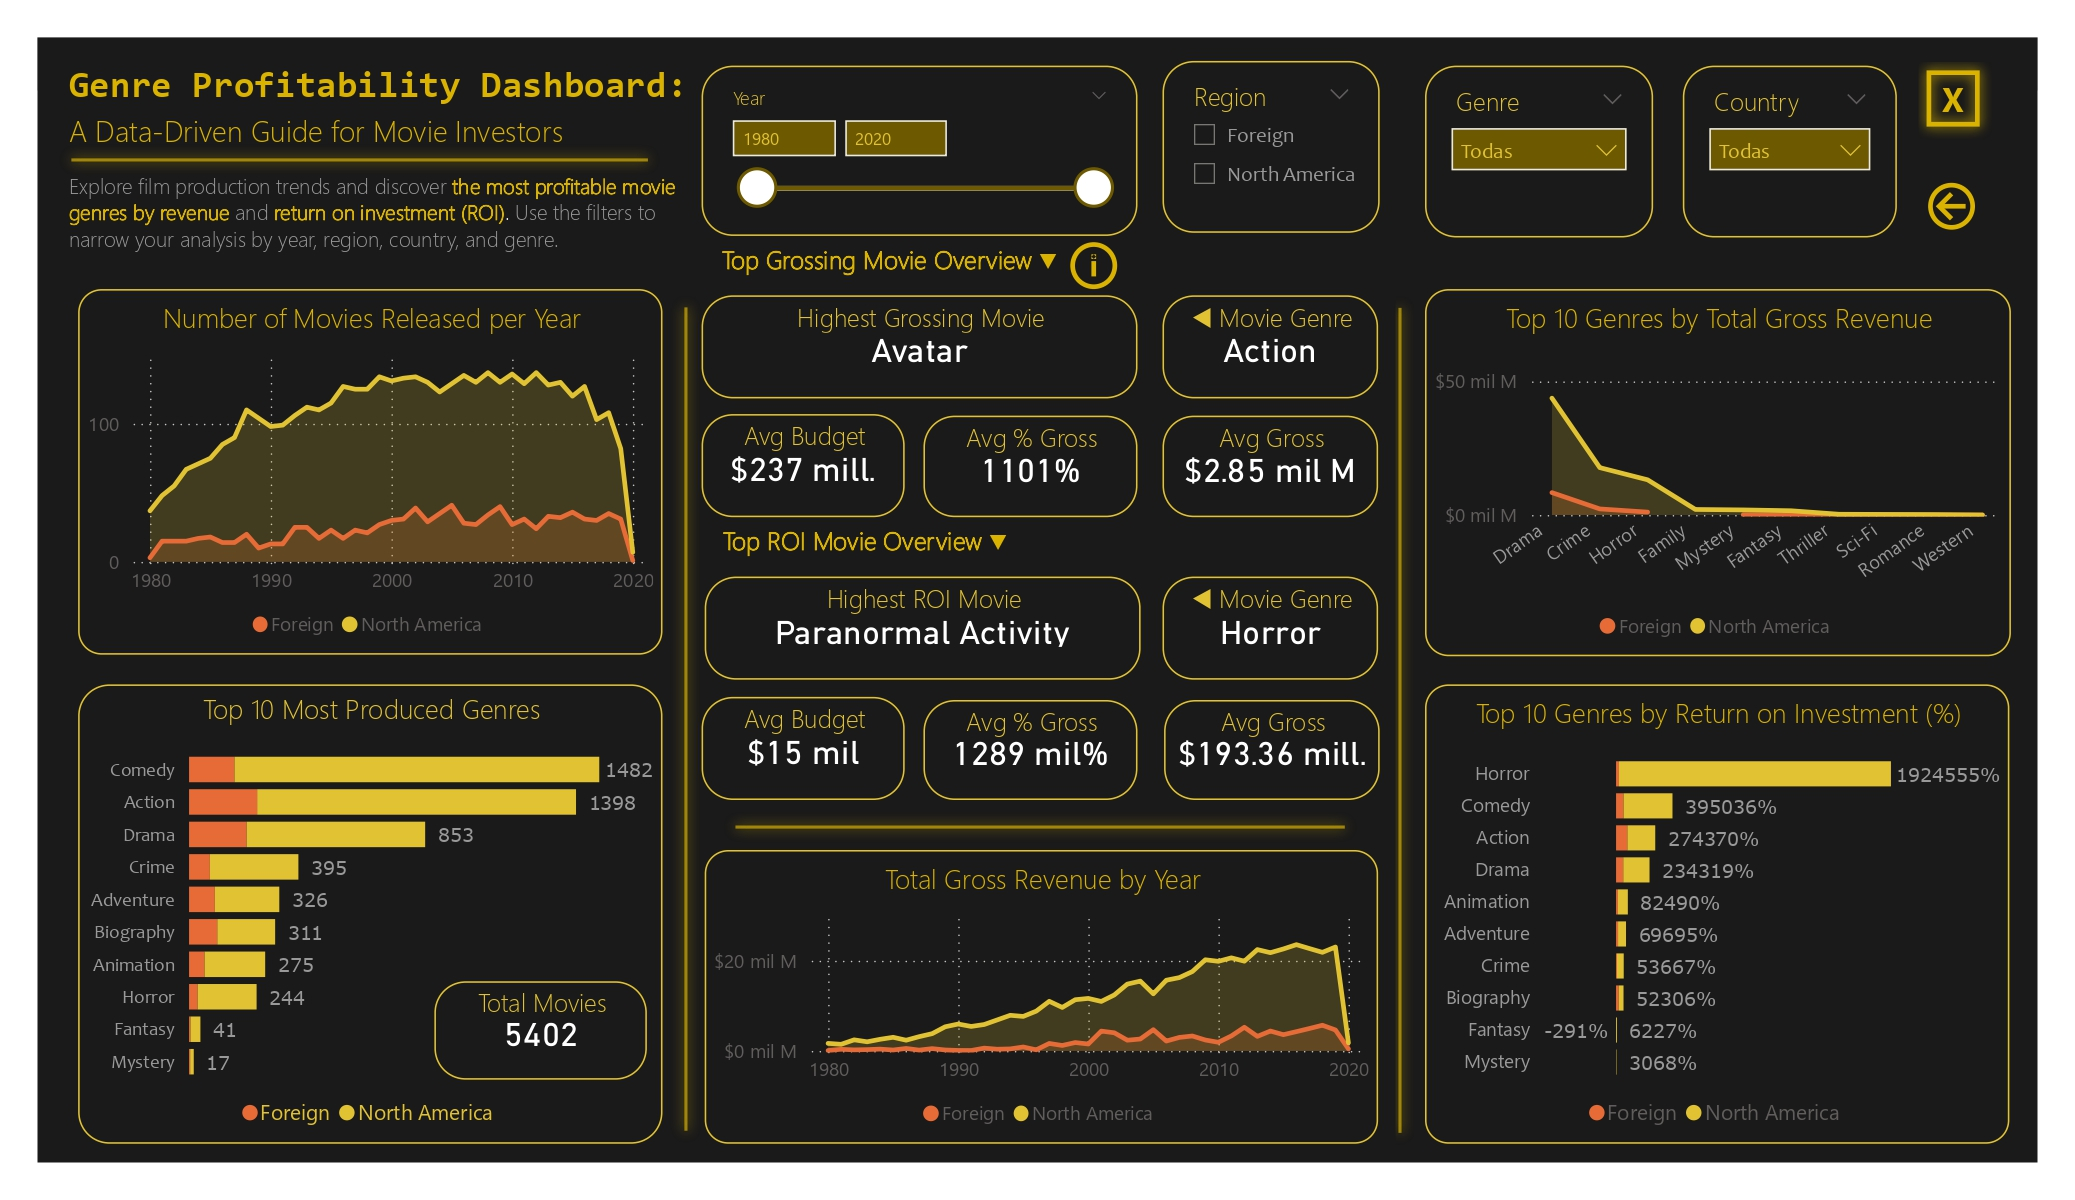

Layout of this report page (visuals, bound fields, positions):
{"tool":"powerbi","page":{"name":"Duplicado de Página 1","canvas":[1280,720],"ordinal":0},"visuals":[{"type":"slicer","fields":{"Values":["Sheet1.region"]},"box":[720,15,138.8,110],"z":0},{"type":"slicer","fields":{"Values":["Sheet1.genre"]},"box":[887.5,17.5,146.2,110],"z":1000},{"type":"slicer","fields":{"Values":["Sheet1.country"]},"box":[1052.5,17.5,137.5,110],"z":2000},{"type":"areaChart","title":"Top 10 Genres by Total Gross Revenue","fields":{"Series":["Sheet1.region"],"Category":["Sheet1.genre"],"Y":["Sheet1.gross"]},"box":[887.5,161.2,375,235],"z":3000},{"type":"barChart","title":"Top 10 Most Produced Genres","fields":{"Category":["Sheet1.genre","Sheet1.year"],"Series":["Sheet1.region"],"Y":["Sheet1.name"]},"box":[26.2,414.3,373.8,294],"z":4000},{"type":"slicer","fields":{"Values":["Sheet1.year"]},"box":[425,17.9,278.6,109.5],"z":5000},{"type":"card","title":"Highest Grossing Movie","fields":{"Values":["Sheet1.name"]},"box":[425,165.2,278.6,65.5],"z":6000},{"type":"card","title":"Highest ROI Movie ","fields":{"Values":["Sheet1.name"]},"box":[427.4,345,278.6,65.5],"z":7000},{"type":"card","title":"◀ Movie Genre","fields":{"Values":["Sheet1.genre"]},"box":[720.2,345,138.1,65.5],"z":8000},{"type":"card","title":"◀ Movie Genre","fields":{"Values":["Sheet1.genre"]},"box":[720.2,165.2,138.1,65.5],"z":9000},{"type":"card","title":"Avg % Gross","fields":{"Values":["Sheet1.%gross"]},"box":[566.7,242.4,136.9,64.3],"z":10000},{"type":"areaChart","title":"Number of Movies Released per Year","fields":{"Category":["Sheet1.year"],"Series":["Sheet1.region"],"Y":["Sheet1.name"]},"box":[26.2,161.2,373.8,233.8],"z":11000},{"type":"card","title":"Total Movies","fields":{"Values":["Sheet1.name"]},"box":[253.6,603.6,136.9,63.1],"z":12000},{"type":"shape","box":[862.5,165,18.8,543.8],"z":13000},{"type":"shape","box":[400,165.5,29.8,542.9],"z":14000},{"type":"barChart","title":"Top 10 Genres by Return on Investment (%)","fields":{"Category":["Sheet1.genre","Sheet1.year"],"Series":["Sheet1.region"],"Y":["Sheet1.%gross"]},"box":[888.1,414.3,373.8,294],"z":15000},{"type":"card","title":"Avg Budget","fields":{"Values":["Sheet1.budget"]},"box":[425,241.3,129.8,65.5],"z":16000},{"type":"card","title":"Avg Gross","fields":{"Values":["Sheet1.gross"]},"box":[720.2,242.4,138.1,64.3],"z":17000},{"type":"card","title":"Avg % Gross","fields":{"Values":["Sheet1.%gross"]},"box":[567.1,423.7,136.9,64.3],"z":18000},{"type":"card","title":"Avg Budget","fields":{"Values":["Sheet1.budget"]},"box":[425.5,422.5,129.8,65.5],"z":19000},{"type":"card","title":"Avg Gross","fields":{"Values":["Sheet1.gross"]},"box":[720.7,423.7,138.1,64.3],"z":20000},{"type":"areaChart","title":"Total Gross Revenue by Year","fields":{"Category":["Sheet1.year"],"Series":["Sheet1.region"],"Y":["Sheet1.gross"]},"box":[427.4,520.2,431,188.1],"z":21000},{"type":"textbox","box":[15,10,425,68.8],"z":22000},{"type":"shape","box":[438.8,490,406.2,30],"z":23000},{"type":"textbox","box":[432.5,126.2,246.2,35],"z":24000},{"type":"textbox","box":[433.8,306.2,246.2,35],"z":25000},{"type":"textbox","box":[15,81.2,400,80],"z":26000},{"type":"shape","box":[13.8,62.5,385,30],"z":27000},{"type":"actionButton","title":"X","box":[1201.2,12.5,50,52.5],"z":28000},{"type":"actionButton","box":[656.2,126.2,45,40],"z":29000},{"type":"actionButton","box":[1205,87.5,46.2,40],"z":30000}]}

Visuals, with their boxes on the page's 1280x720 design canvas (x1, y1, x2, y2). These are canvas units, not pixel positions in the 2075x1200 screenshot, which may show the page scaled, cropped or inside an application window:
slicer - Sheet1.region: l=720, t=15, r=859, b=125
slicer - Sheet1.genre: l=888, t=18, r=1034, b=128
slicer - Sheet1.country: l=1052, t=18, r=1190, b=128
"Top 10 Genres by Total Gross Revenue" areaChart: l=888, t=161, r=1262, b=396
"Top 10 Most Produced Genres" barChart: l=26, t=414, r=400, b=708
slicer - Sheet1.year: l=425, t=18, r=704, b=127
"Highest Grossing Movie" card: l=425, t=165, r=704, b=231
"Highest ROI Movie " card: l=427, t=345, r=706, b=410
"◀ Movie Genre" card: l=720, t=345, r=858, b=410
"◀ Movie Genre" card: l=720, t=165, r=858, b=231
"Avg % Gross" card: l=567, t=242, r=704, b=307
"Number of Movies Released per Year" areaChart: l=26, t=161, r=400, b=395
"Total Movies" card: l=254, t=604, r=390, b=667
shape: l=862, t=165, r=881, b=709
shape: l=400, t=166, r=430, b=708
"Top 10 Genres by Return on Investment (%)" barChart: l=888, t=414, r=1262, b=708
"Avg Budget" card: l=425, t=241, r=555, b=307
"Avg Gross" card: l=720, t=242, r=858, b=307
"Avg % Gross" card: l=567, t=424, r=704, b=488
"Avg Budget" card: l=426, t=422, r=555, b=488
"Avg Gross" card: l=721, t=424, r=859, b=488
"Total Gross Revenue by Year" areaChart: l=427, t=520, r=858, b=708
textbox: l=15, t=10, r=440, b=79
shape: l=439, t=490, r=845, b=520
textbox: l=432, t=126, r=679, b=161
textbox: l=434, t=306, r=680, b=341
textbox: l=15, t=81, r=415, b=161
shape: l=14, t=62, r=399, b=92
"X" actionButton: l=1201, t=12, r=1251, b=65
actionButton: l=656, t=126, r=701, b=166
actionButton: l=1205, t=88, r=1251, b=128
